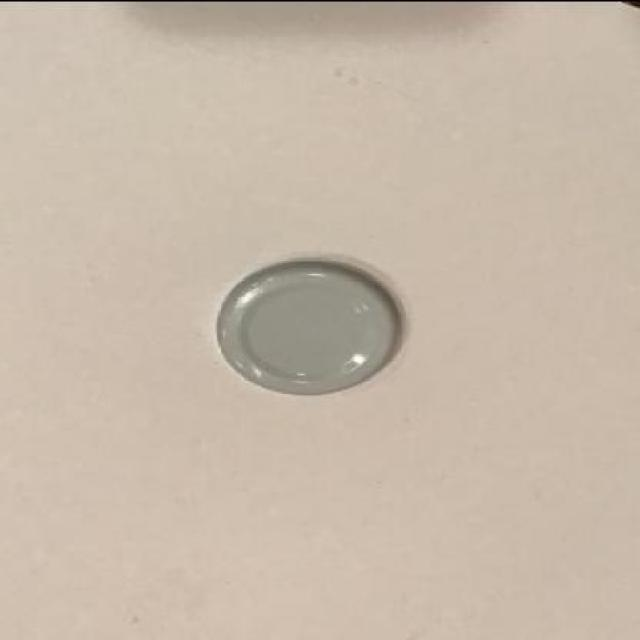METAL: (214, 261, 401, 393)
